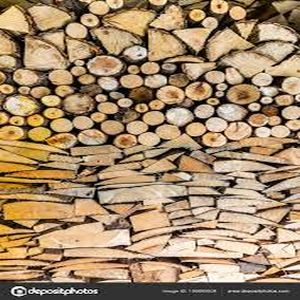log: (22, 33, 68, 72), (206, 27, 253, 62), (145, 27, 188, 65), (215, 49, 275, 76), (102, 6, 154, 37), (87, 26, 140, 51), (26, 4, 73, 30), (255, 16, 300, 43), (169, 26, 210, 55), (62, 36, 102, 63), (1, 5, 34, 35), (84, 54, 126, 77), (149, 4, 182, 31), (62, 92, 95, 118), (227, 82, 261, 105), (3, 95, 39, 115), (163, 106, 194, 128), (180, 61, 215, 80), (217, 101, 247, 123), (119, 43, 149, 64), (157, 84, 186, 105), (224, 120, 253, 141), (47, 67, 76, 87), (127, 85, 156, 105), (234, 16, 257, 41), (45, 132, 76, 150), (11, 67, 40, 85), (154, 122, 183, 140), (184, 81, 212, 99), (142, 72, 169, 90), (78, 128, 105, 146), (201, 132, 228, 150), (97, 72, 121, 92), (111, 132, 137, 150), (62, 21, 87, 39), (99, 118, 124, 136), (182, 121, 208, 138), (204, 67, 226, 87), (1, 126, 28, 142), (78, 10, 101, 28), (136, 131, 159, 149), (28, 127, 52, 144), (125, 119, 149, 136), (142, 109, 166, 126), (119, 72, 144, 88), (76, 82, 101, 98), (206, 116, 228, 134), (248, 111, 270, 129), (251, 70, 274, 87), (281, 76, 300, 96), (168, 72, 190, 89), (72, 114, 94, 131), (194, 103, 215, 120), (51, 116, 73, 132), (97, 101, 120, 116), (137, 60, 161, 74), (51, 84, 75, 98), (273, 92, 294, 108), (76, 71, 97, 86), (7, 114, 28, 129), (42, 106, 64, 120), (1, 55, 19, 72), (282, 105, 300, 122), (146, 96, 165, 112), (25, 111, 45, 126), (270, 124, 290, 139), (41, 94, 63, 107), (229, 5, 248, 20), (210, 1, 230, 15), (30, 85, 50, 99), (88, 1, 109, 14), (261, 104, 282, 117), (188, 8, 207, 22), (122, 62, 141, 76), (203, 16, 219, 31), (254, 125, 270, 140), (160, 61, 177, 75), (117, 96, 135, 109), (107, 89, 124, 101), (91, 111, 106, 124), (285, 119, 300, 132), (247, 101, 261, 114), (268, 115, 281, 129), (204, 96, 220, 107), (15, 86, 32, 96), (92, 93, 109, 103), (260, 94, 274, 106), (71, 65, 86, 76), (215, 82, 229, 93), (136, 104, 151, 114), (1, 84, 15, 94)
